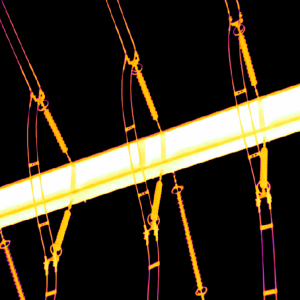insulator: (176, 187, 201, 288), (42, 103, 67, 151), (136, 68, 156, 118), (239, 31, 257, 85), (149, 180, 163, 222), (54, 209, 69, 247), (260, 145, 267, 188)
